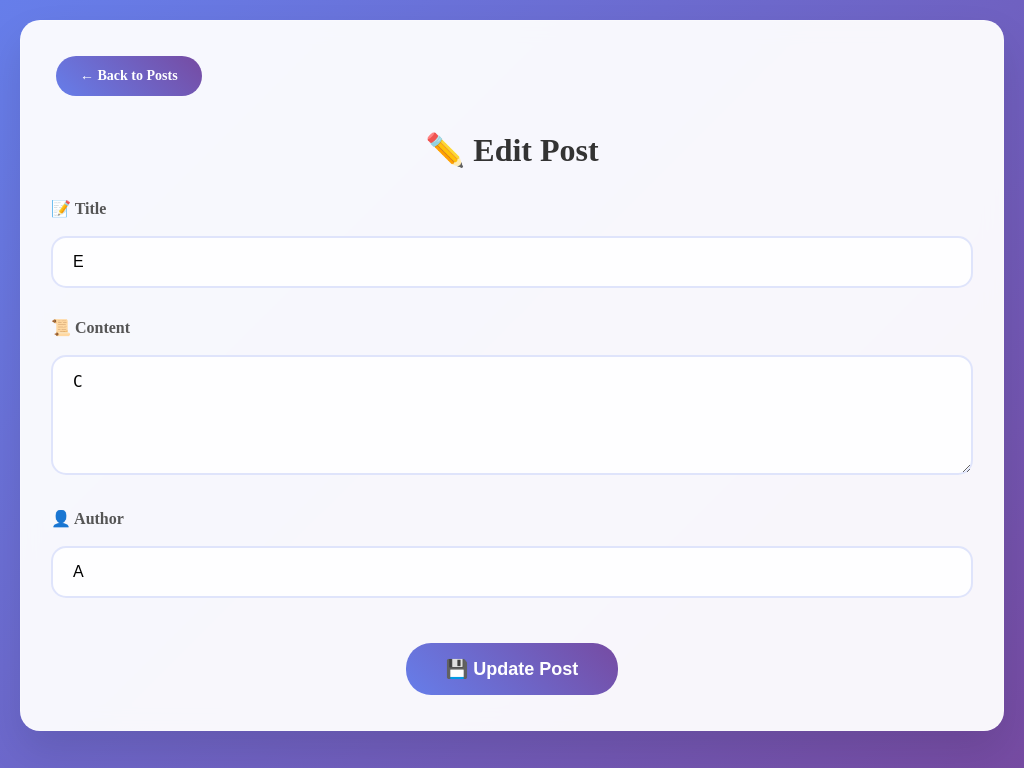
Test: Blog App Combined Tests › Axios_updates post successfully
This screenshot has width=1024, height=768.
Step 1. Replace the text in the field with test id "title-input" with "Updated T" → {"x": 512, "y": 262}, box [51, 236, 973, 288]
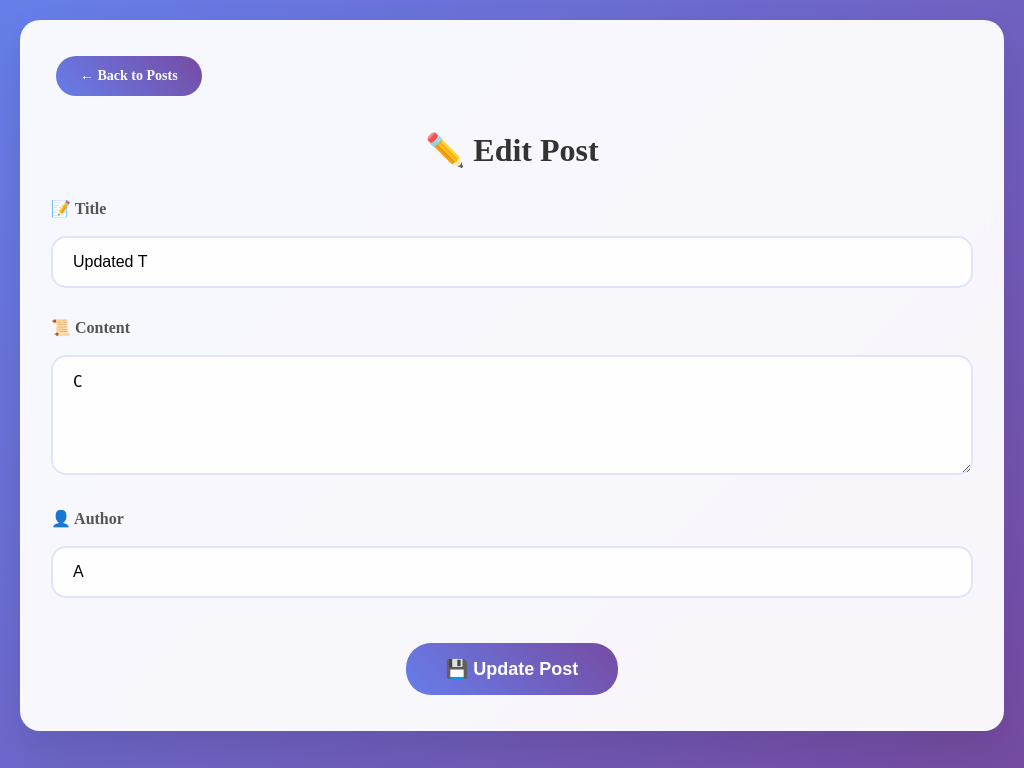
Step 2. Click the button "💾 Update Post" → {"x": 512, "y": 669}, box [406, 643, 618, 695]
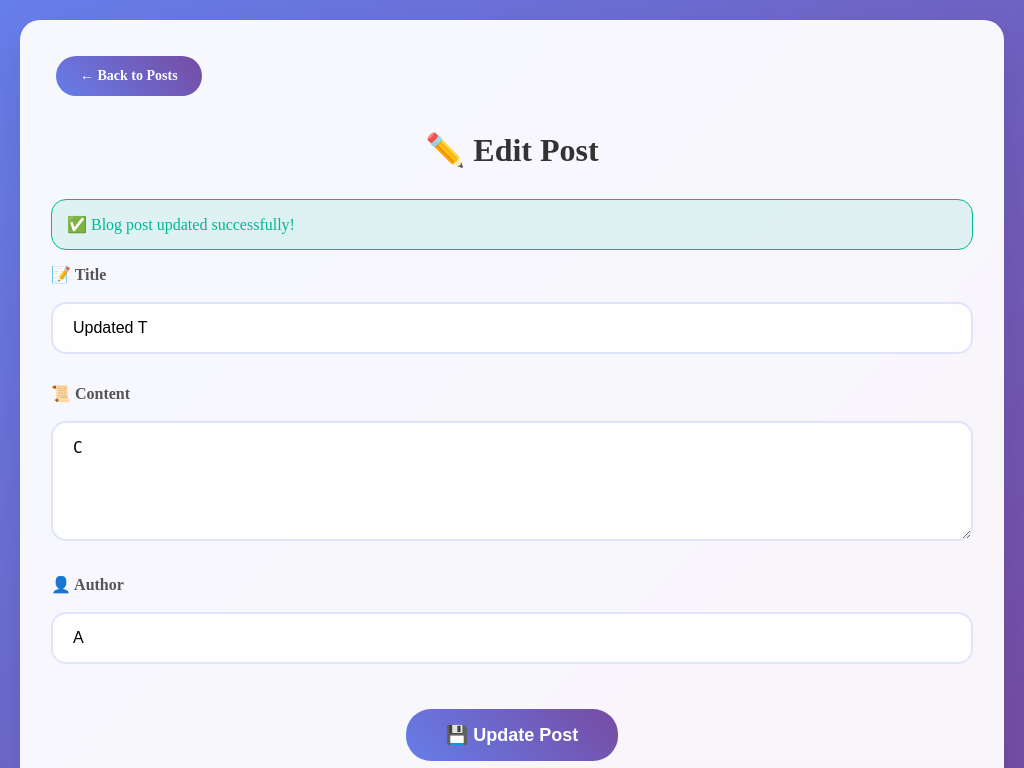
Expected: the text "✅ Blog post updated successfully!" is shown, [51, 199, 973, 250]
